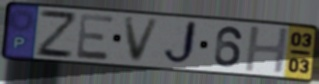6: (213, 24, 244, 70)
E: (75, 12, 117, 63)
H: (243, 26, 292, 75)
J: (161, 19, 200, 68)
V: (122, 16, 163, 64)
Z: (35, 8, 78, 60)
